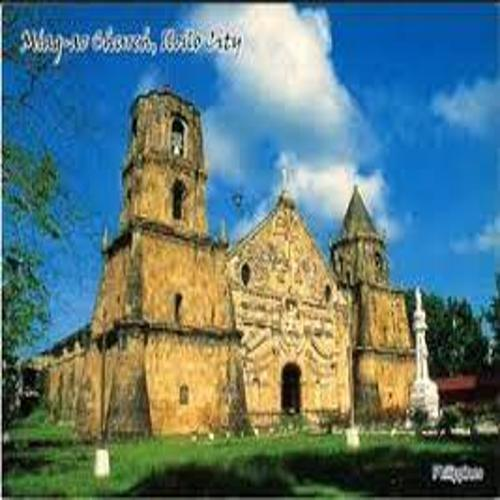Miagao Church: (95, 81, 439, 442)
